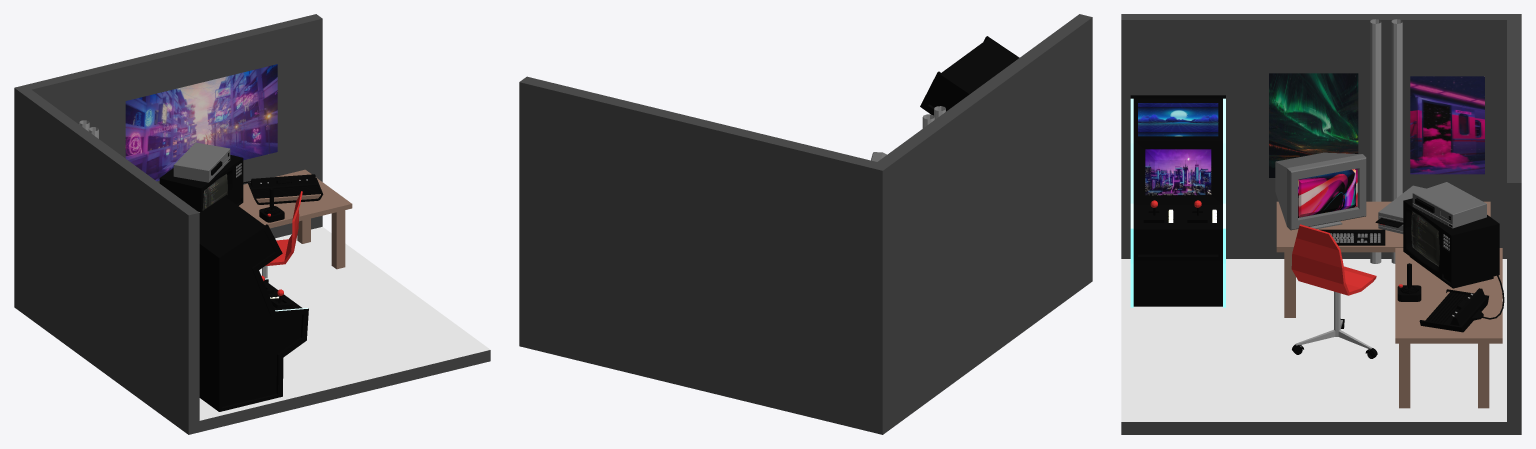
Rendered from room4.gltf.
The picture shows the model from 3 angles, left to right: view 1: azimuth 30°, elevation 25°; view 2: azimuth 150°, elevation 25°; view 3: azimuth 270°, elevation 25°; orthographic projection. The views are drawn at different scales.
Visible parts, largest first — view 1: Room, Jatekgep, 80s-Retro-Sci-Fi-FPoster-and-lyer-Templates-for-Adobe-Photos, Table, VHS, TV, Labak, Plane.010, Plane.001, Plane, Plane.003, Plane.002; view 2: Room, Jatekgep; view 3: Room, Jatekgep, space-sluts-vintage-sci-fi-comic-book-cover-long-shot, robotlegion, Monitor, Table, Arcade game machine, Plane, TV, Table.002, Plane.010, VHS (+10 smaller).
Boxes of the visible parts, x1,y1,x2,y2 form: Room: [14, 14, 490, 434]; Jatekgep: [199, 194, 308, 411]; 80s-Retro-Sci-Fi-FPoster-and-lyer-Templates-for-Adobe-Photos: [125, 64, 277, 181]; Table: [239, 169, 352, 228]; VHS: [173, 142, 229, 182]; TV: [159, 155, 242, 212]; Labak: [297, 210, 345, 269]; Plane.010: [201, 164, 234, 211]; Plane.001: [248, 174, 323, 204]; Plane: [265, 191, 302, 265]; Plane.003: [253, 186, 320, 199]; Plane.002: [252, 175, 315, 187]; Room: [519, 14, 1092, 434]; Jatekgep: [920, 36, 1019, 115]; Room: [1121, 14, 1521, 434]; Jatekgep: [1130, 95, 1225, 307]; space-sluts-vintage-sci-fi-comic-book-cover-long-shot: [1269, 73, 1358, 177]; robotlegion: [1410, 76, 1484, 174]; Monitor: [1275, 152, 1366, 230]; Table: [1395, 248, 1502, 343]; Arcade game machine: [1370, 19, 1402, 263]; Plane: [1291, 224, 1376, 295]; TV: [1403, 198, 1499, 288]; Table.002: [1276, 201, 1490, 252]; Plane.010: [1403, 201, 1441, 278]; VHS: [1413, 182, 1486, 228].
Size of what is drawn, in the model's own units: 8.3 by 5.8 by 8.3.
Materials: 16 (7 with a texture image).
